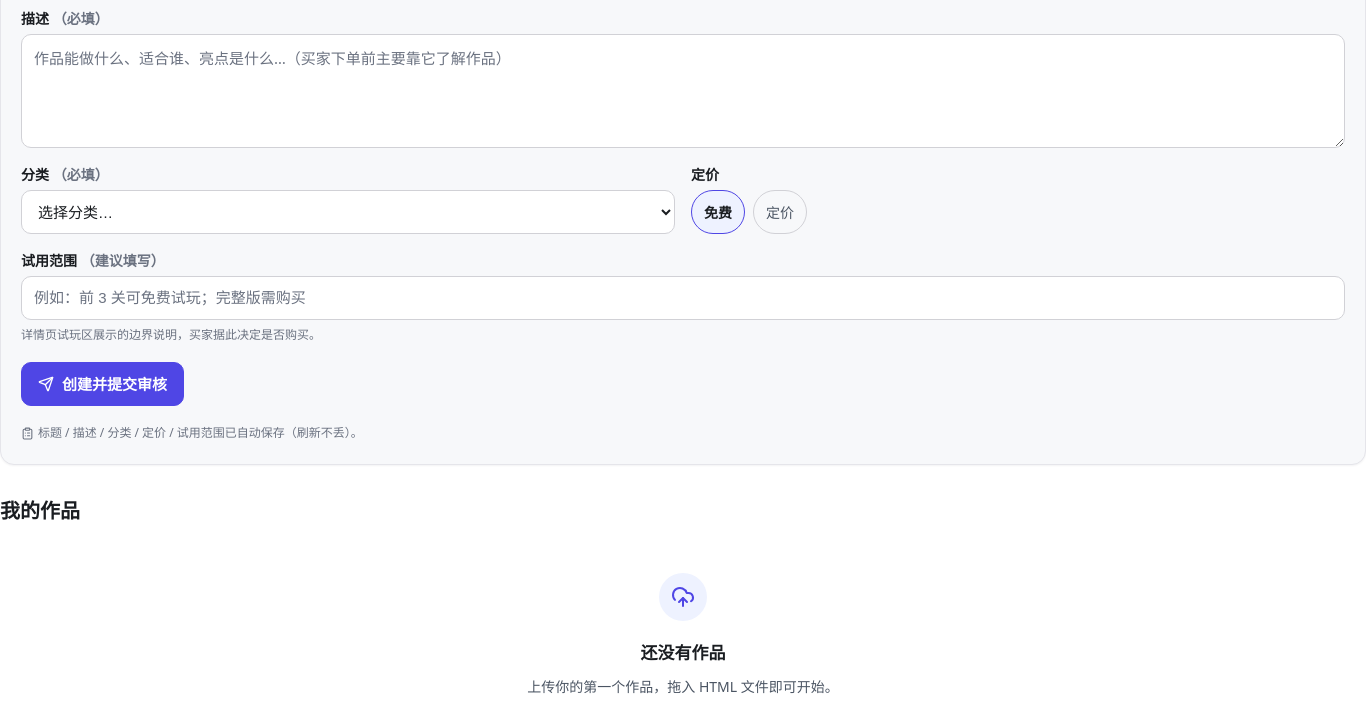
Test: SellPage（卖家工作台） › 表单校验：未选文件/未填字段 → 就地提示，不发请求
(page scrolled)
Click the button "创建并提交审核" at (102, 384), box top-left (21, 362), bottom-right (184, 406)
(page scrolled)
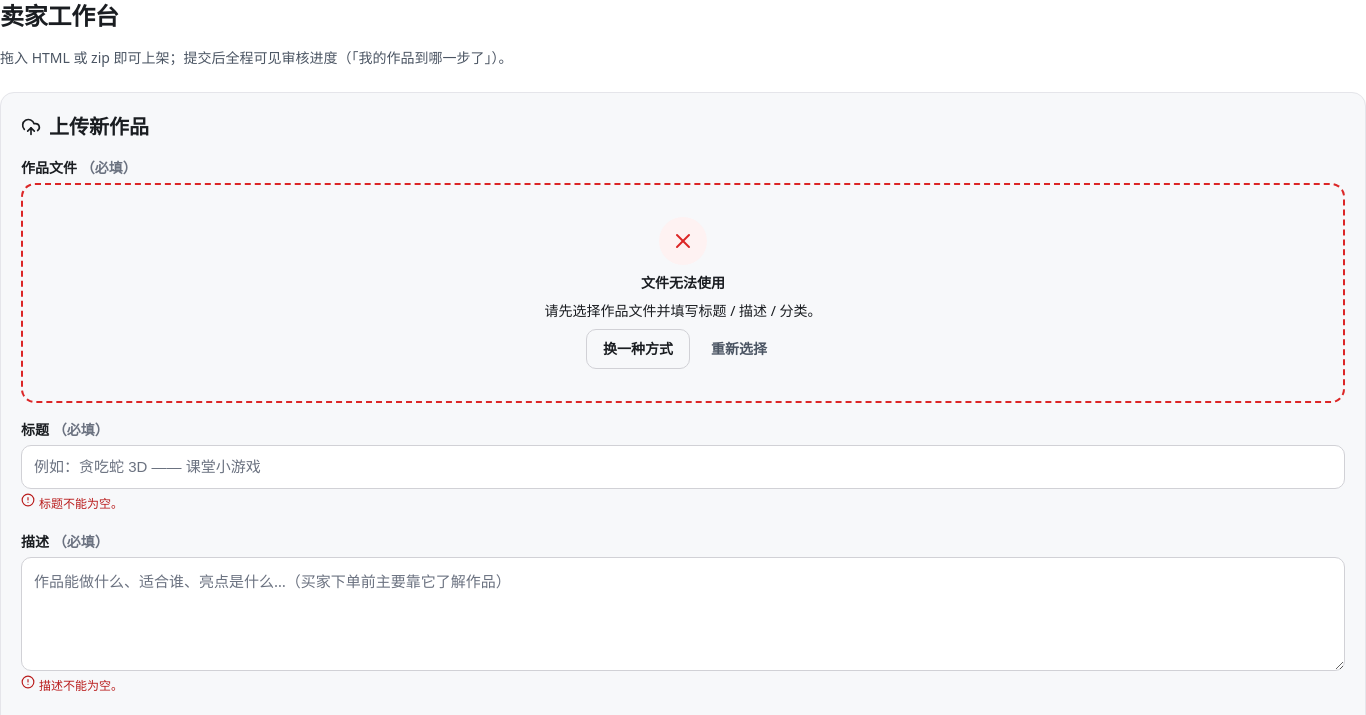
expect the text "请先选择作品文件并填写标题 / 描述 / 分类。" is shown: met, box top-left (544, 301), bottom-right (822, 321)
